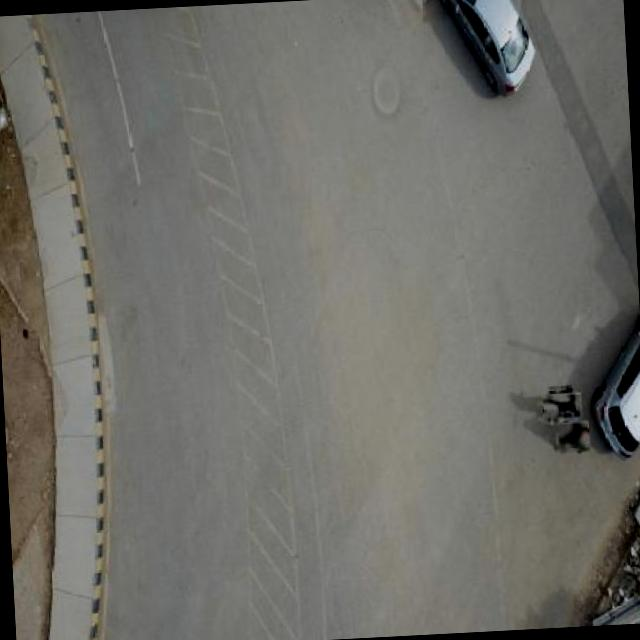Person: (544, 390, 578, 422), (556, 422, 589, 454)
